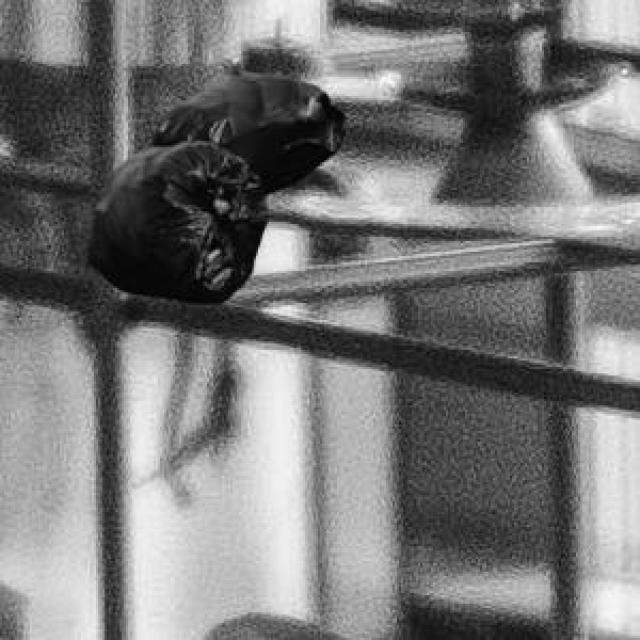miscellaneous trash: (83, 66, 341, 299)
